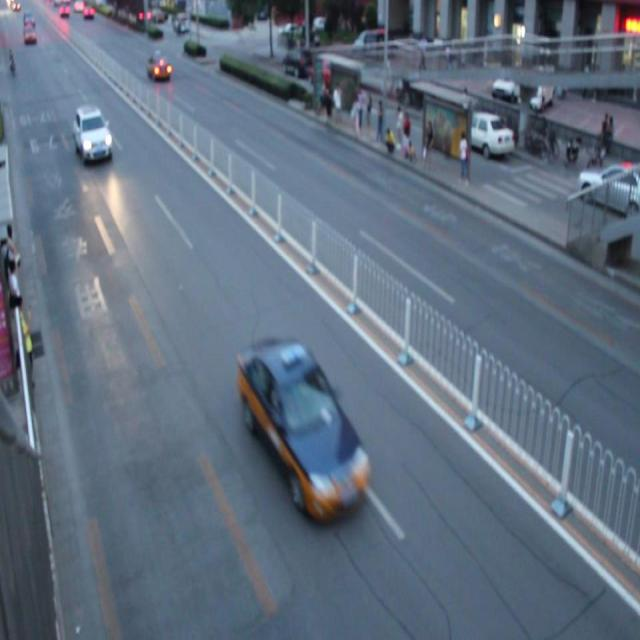car: (238, 342, 372, 522), (74, 102, 113, 163)
